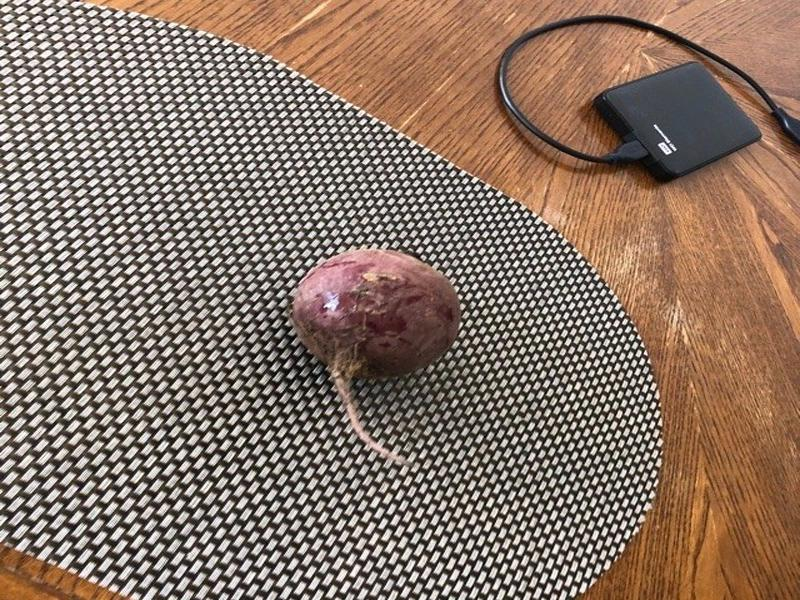Beet: (291, 249, 459, 467)
